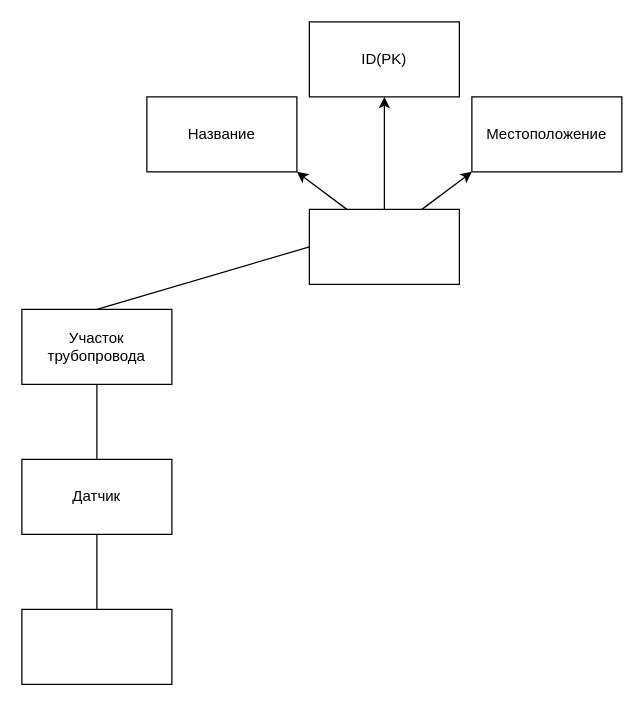
The diagram is 644 pixels wide and 706 high, and some of its shapes have lost their labels. The shapes that lost their labels are listed below. From the top down, each one's centre as x and y in pixels, then its label:
At pixel 383 246: "Компрессорная станция(КС)".
At pixel 96 646: "Показания".
